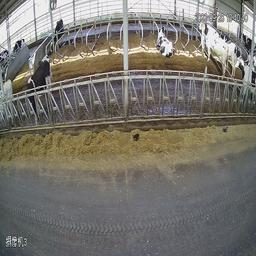cow: (22, 57, 51, 124), (197, 19, 227, 76), (49, 17, 66, 54), (156, 24, 173, 58)
